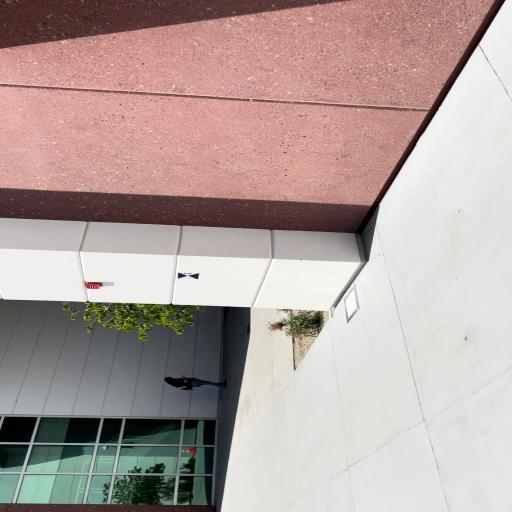target2: (178, 272, 199, 280)
